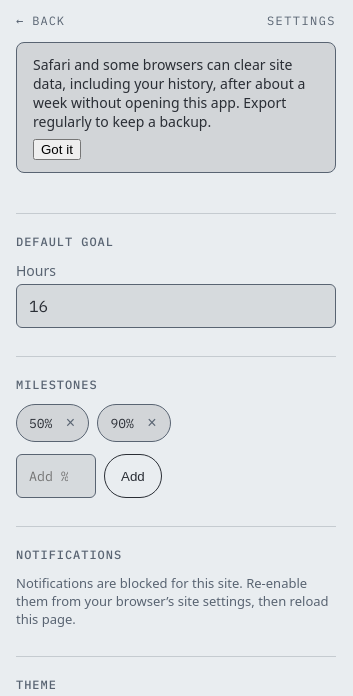
Test case: <Settings> default goal (spec §9.7) › clamps input above 48 and shows the doctor note only above 24h
Replace the text in the number field labelled "Hours" with "20" at (176, 306), box 16,284 -> 336,328
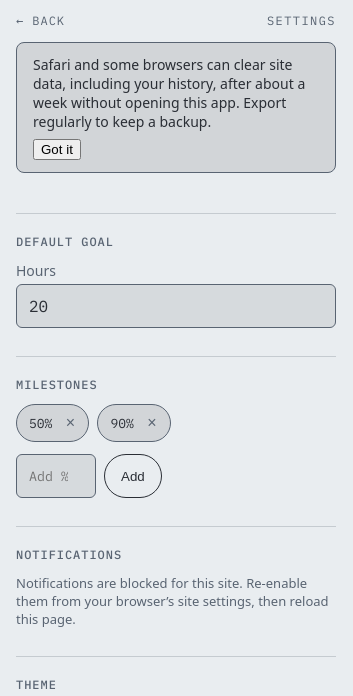
Expected: the text "discussing extended fasting" is not shown
Replace the text in the number field labelled "Hours" with "49" at (176, 306), box 16,284 -> 336,328
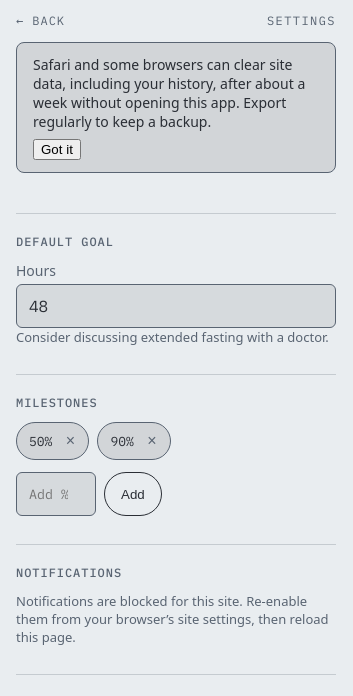
Expected: the text "Consider discussing extended fasting with a doctor." is shown, 16,328 -> 336,346
